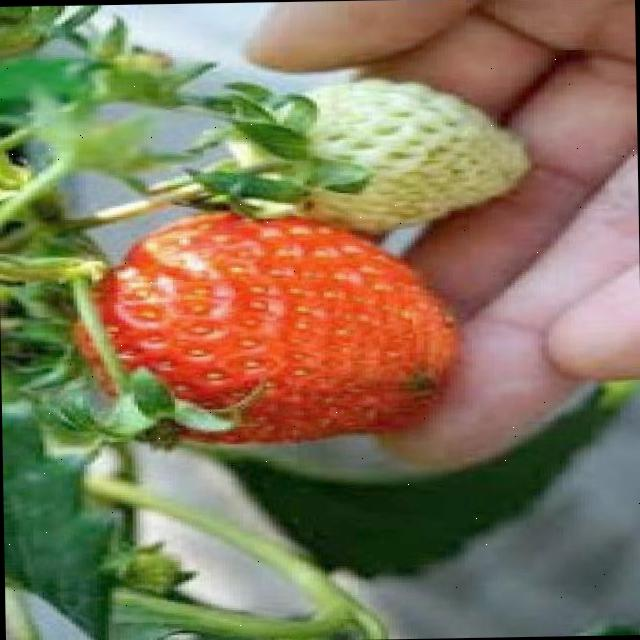strawberry: (95, 208, 462, 444), (236, 77, 526, 234)
